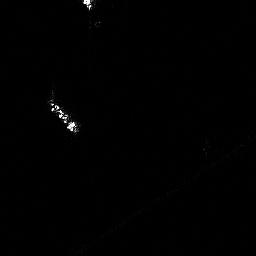ship: (50, 102, 76, 132)
